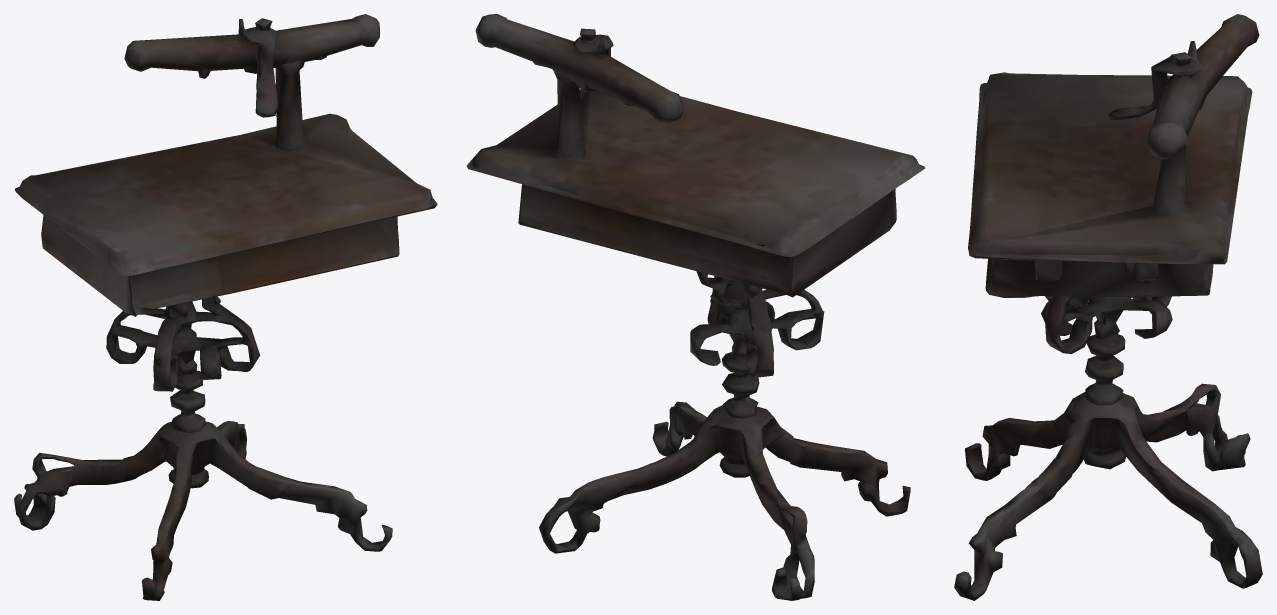
The model's file is ornate-iron-operating-table-v001.glb.
The picture shows the model from 3 angles, left to right: view 1: azimuth 30°, elevation 25°; view 2: azimuth 150°, elevation 25°; view 3: azimuth 270°, elevation 25°; orthographic projection. The views are drawn at different scales.
Parts seen in each view (by area): view 1: ornate-iron-operating-table; view 2: ornate-iron-operating-table; view 3: ornate-iron-operating-table.
Part boxes in pixels (bbox=[...]): ornate-iron-operating-table: bbox=[14, 14, 437, 600]; ornate-iron-operating-table: bbox=[466, 14, 925, 600]; ornate-iron-operating-table: bbox=[954, 14, 1262, 600].
Bounding box in the file's own units: 0.6515 × 0.8669 × 0.4524.
1 material, 1 textured.
